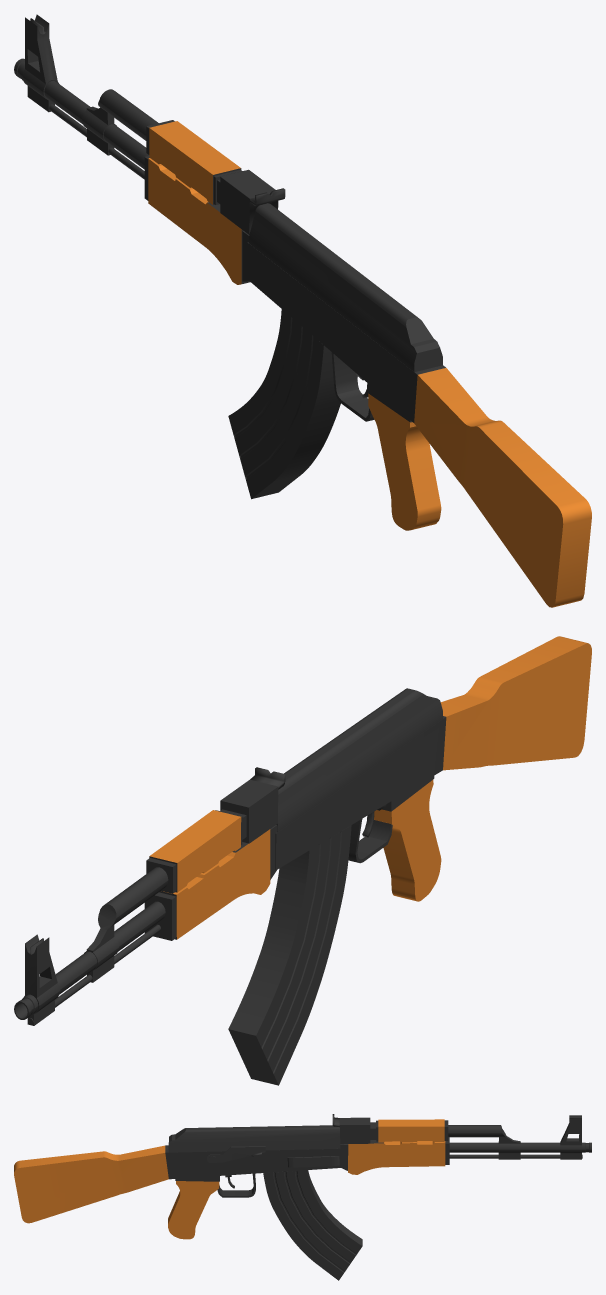
3 views of the same model, one above another, from view 1: azimuth 30°, elevation 25°; view 2: azimuth 150°, elevation 25°; view 3: azimuth 270°, elevation 25° (orthographic). The views are drawn at different scales.
Visible parts, largest first — view 1: AK; view 2: AK; view 3: AK.
Boxes of the visible parts, x1=… form: AK: x1=14, y1=14, x2=591, y2=607; AK: x1=14, y1=636, x2=591, y2=1085; AK: x1=14, y1=1114, x2=591, y2=1280.
Bounding box in the file's own units: 16.94 × 145 × 474.
